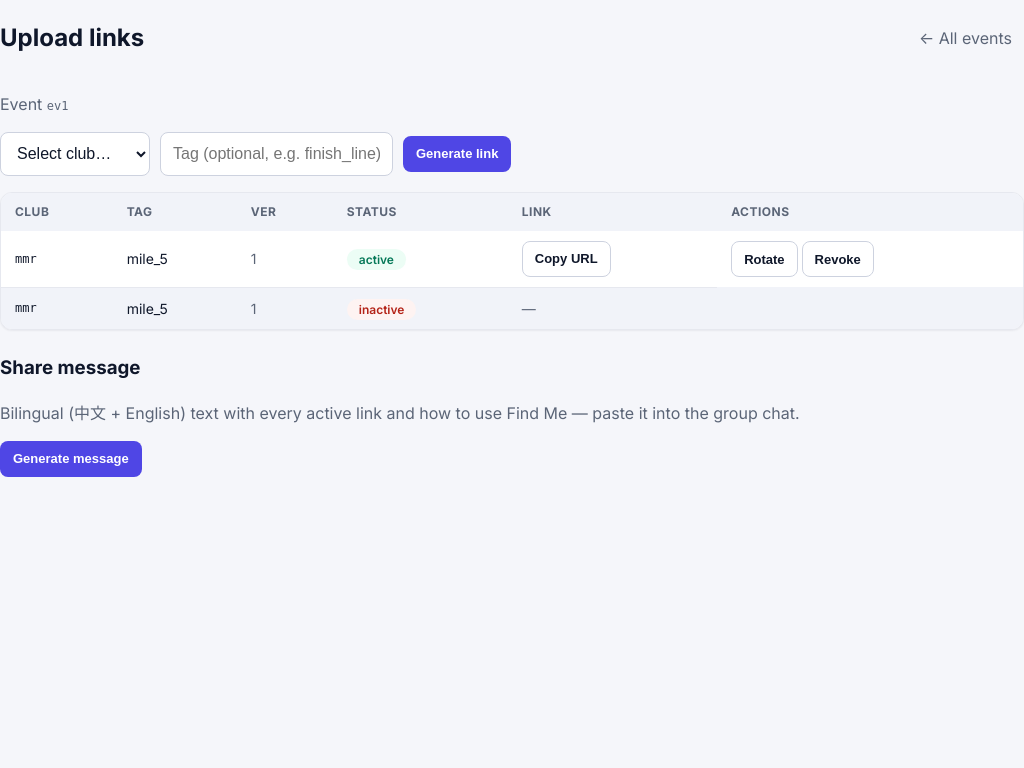
Test: <AdminLinks /> share message › builds a bilingual message of the active links with club and event names
What coordinates should you click on to do the following:
click the button "Generate message"
I would click on:
 (71, 459)
Its box is [0, 441, 142, 477].
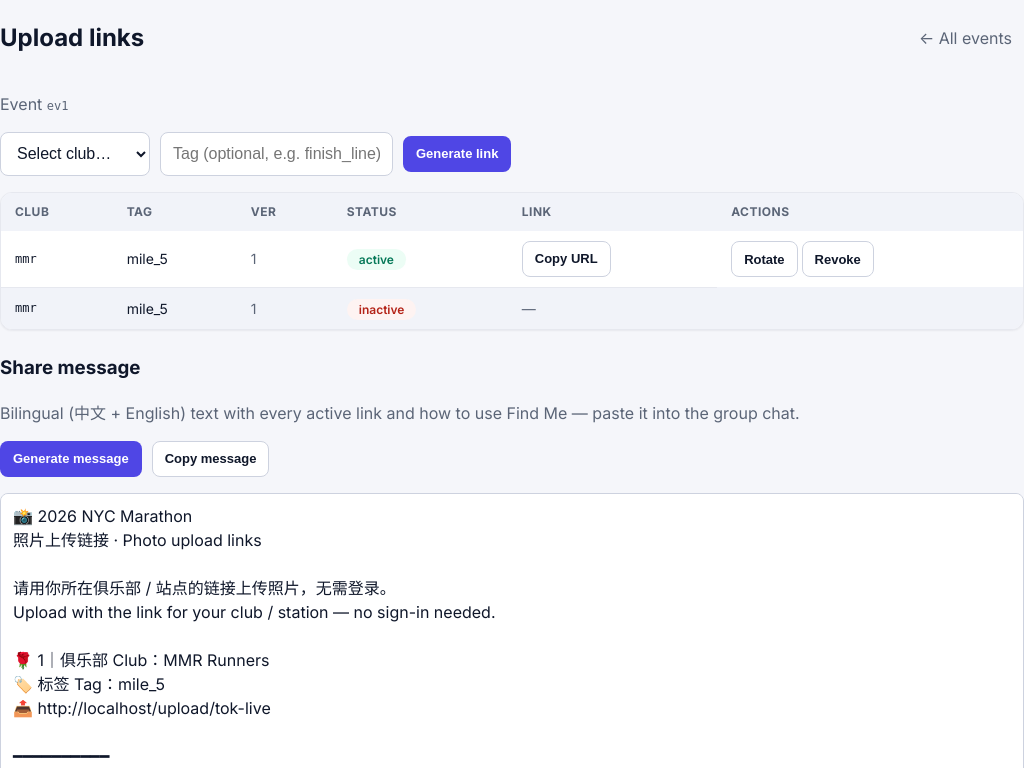
Check: the button "Copy message" is shown, box [152, 441, 269, 477]
